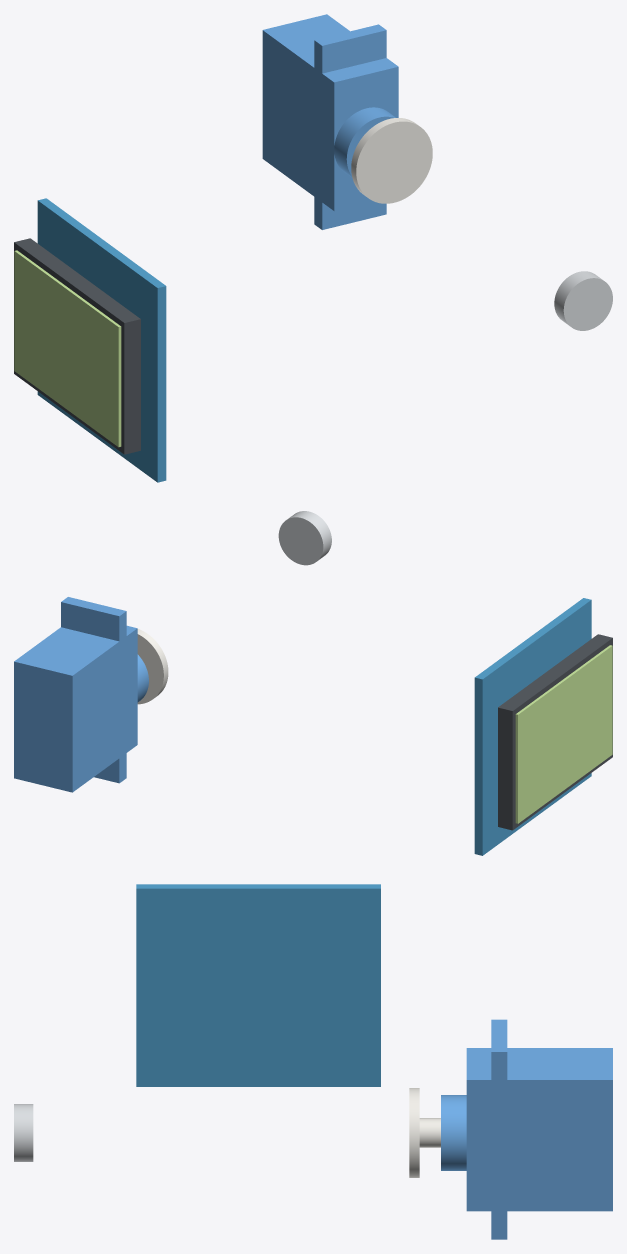
The model's file is fase2_cuerpo_componentes.glb.
The picture shows the model from 3 angles, top to bottom: view 1: azimuth 30°, elevation 25°; view 2: azimuth 150°, elevation 25°; view 3: azimuth 270°, elevation 25°; orthographic projection. The views are drawn at different scales.
Visible parts, largest first — view 1: =>[0:1:1:4], =>[0:1:1:20], =>[0:1:1:16], =>[0:1:1:18], =>[0:1:1:12], =>[0:1:1:6], =>[0:1:1:14], =>[0:1:1:8]; view 2: =>[0:1:1:4], =>[0:1:1:20], =>[0:1:1:16], =>[0:1:1:18], =>[0:1:1:6], =>[0:1:1:14], =>[0:1:1:12]; view 3: =>[0:1:1:16], =>[0:1:1:4], =>[0:1:1:6], =>[0:1:1:8], =>[0:1:1:14], =>[0:1:1:12], =>[0:1:1:10].
Part boxes in pixels (x1,y1,x2,y2): =>[0:1:1:4]: [262, 14, 398, 210]; =>[0:1:1:20]: [14, 250, 121, 447]; =>[0:1:1:16]: [37, 198, 166, 482]; =>[0:1:1:18]: [14, 238, 140, 454]; =>[0:1:1:12]: [351, 118, 432, 203]; =>[0:1:1:6]: [314, 24, 386, 229]; =>[0:1:1:14]: [554, 271, 612, 330]; =>[0:1:1:8]: [334, 107, 395, 177]; =>[0:1:1:4]: [14, 625, 137, 792]; =>[0:1:1:20]: [515, 645, 612, 823]; =>[0:1:1:16]: [474, 598, 591, 855]; =>[0:1:1:18]: [498, 634, 612, 830]; =>[0:1:1:6]: [61, 597, 126, 783]; =>[0:1:1:14]: [278, 511, 331, 565]; =>[0:1:1:12]: [137, 629, 168, 704]; =>[0:1:1:16]: [136, 884, 380, 1086]; =>[0:1:1:4]: [466, 1048, 612, 1211]; =>[0:1:1:6]: [491, 1019, 507, 1239]; =>[0:1:1:8]: [441, 1095, 466, 1170]; =>[0:1:1:14]: [14, 1104, 33, 1161]; =>[0:1:1:12]: [409, 1088, 419, 1177]; =>[0:1:1:10]: [419, 1118, 440, 1147].
Size of the model in its own units: 0.0805 by 0.0397 by 0.093.
